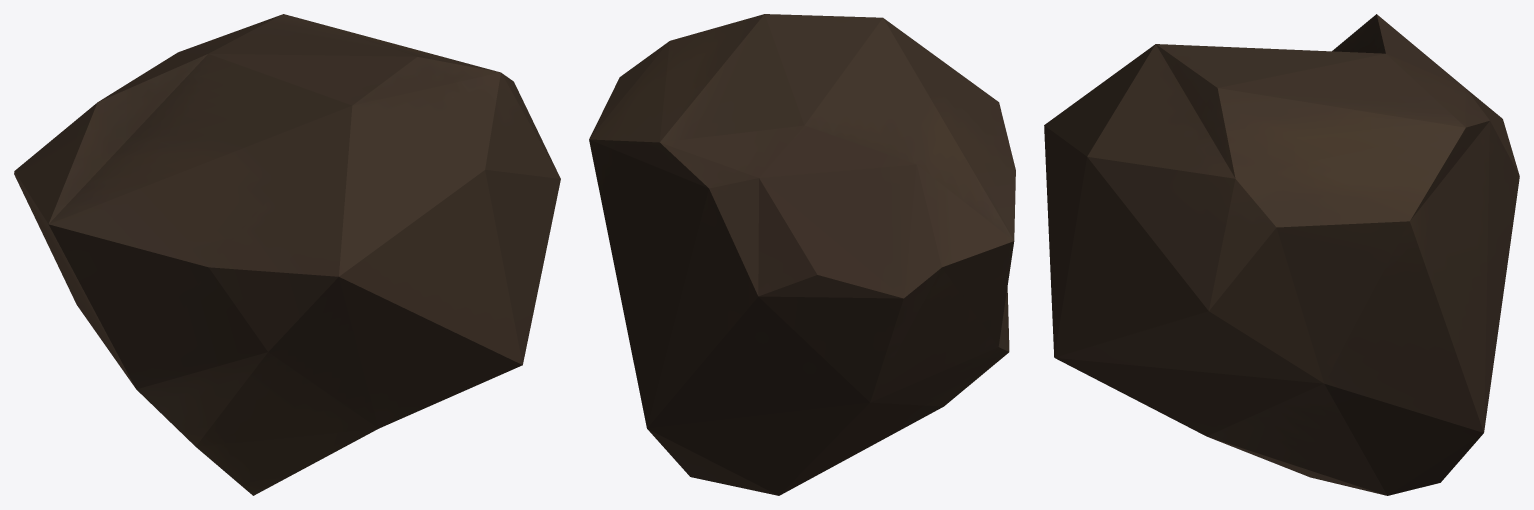
The model's file is Projectile1.FBX.
3 renders of one model, left to right at view 1: azimuth 30°, elevation 25°; view 2: azimuth 150°, elevation 25°; view 3: azimuth 270°, elevation 25°, orthographic. The views are drawn at different scales.
Parts seen in each view (by area): view 1: Projectile1; view 2: Projectile1; view 3: Projectile1.
Boxes of the visible parts, x1=… form: Projectile1: x1=14, y1=14, x2=560, y2=495; Projectile1: x1=589, y1=14, x2=1015, y2=495; Projectile1: x1=1044, y1=14, x2=1519, y2=495.
Bounding box in the file's own units: 0.5381 × 0.4756 × 0.4805.
